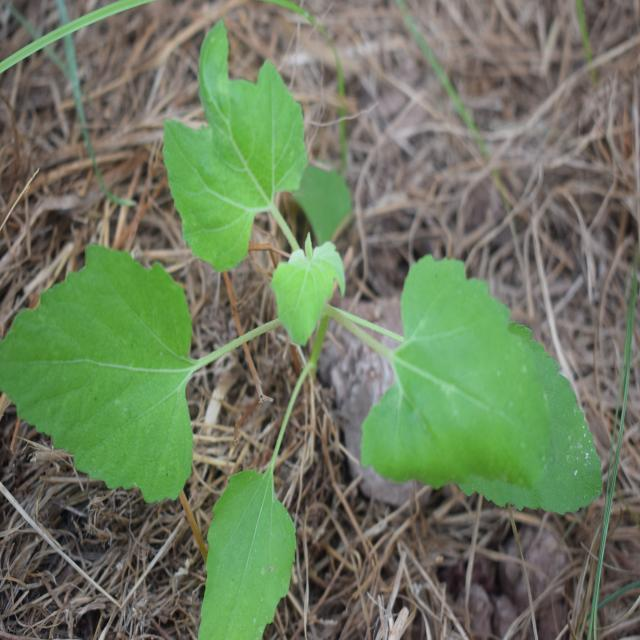cocklebur: (49, 72, 601, 570)
